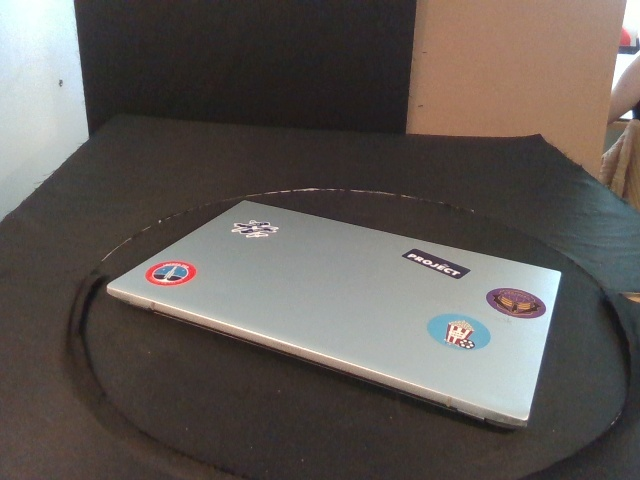laptop: (106, 199, 561, 432)
